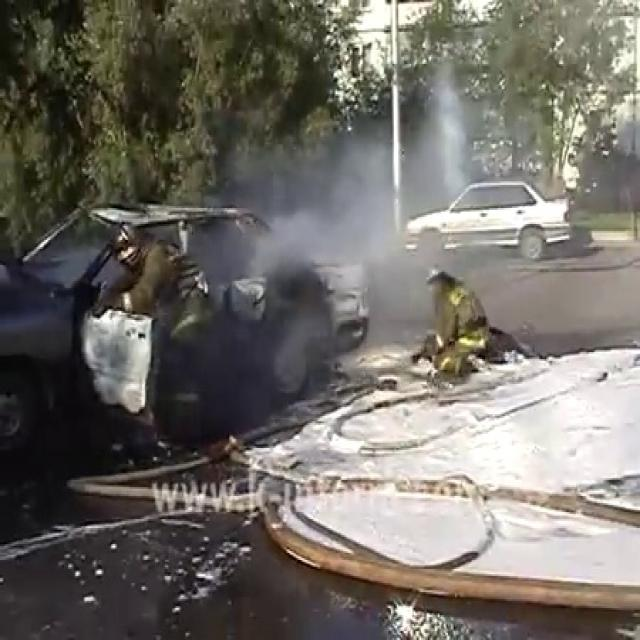Smoke: (207, 70, 486, 335)
